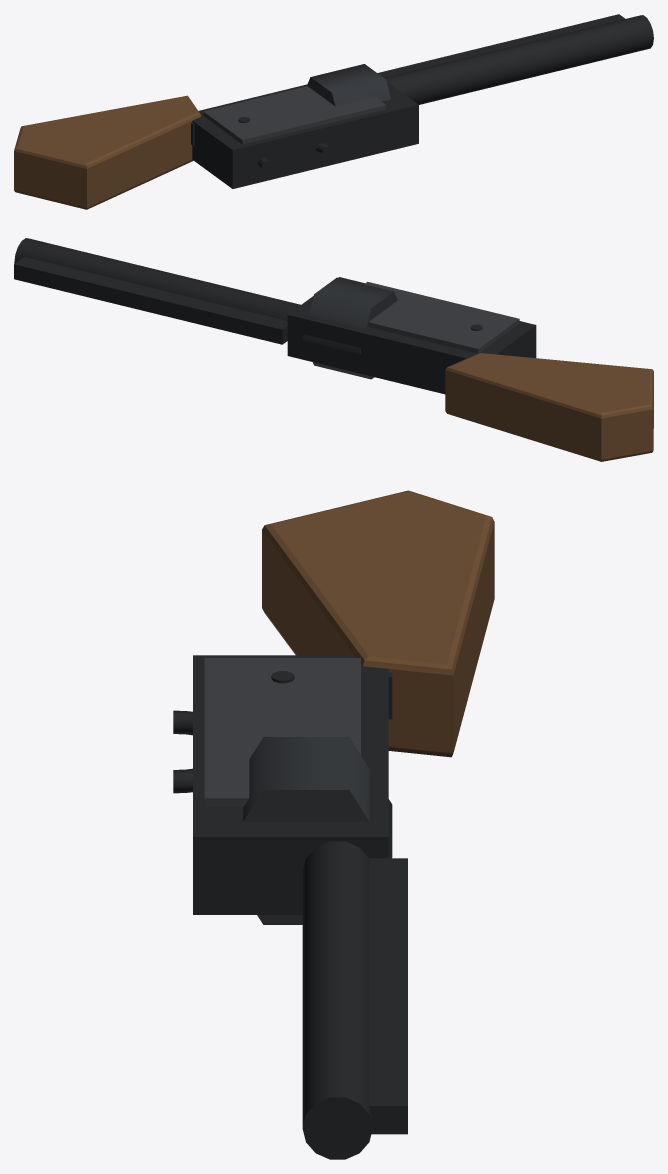
The model's file is revolver.glb.
3 renders of one model, top to bottom at view 1: azimuth 30°, elevation 25°; view 2: azimuth 150°, elevation 25°; view 3: azimuth 270°, elevation 25°, orthographic. The views are drawn at different scales.
Parts seen in each view (by area): view 1: iron, handleWood, cover, drumIron; view 2: iron, handleWood, cover, drumIron; view 3: iron, handleWood, cover, drumIron.
Part boxes in pixels (x1=…): iron: x1=191, y1=14, x2=653, y2=188; handleWood: x1=14, y1=95, x2=201, y2=209; cover: x1=203, y1=86, x2=386, y2=144; drumIron: x1=307, y1=64, x2=390, y2=106; iron: x1=14, y1=238, x2=536, y2=394; handleWood: x1=445, y1=353, x2=653, y2=461; cover: x1=364, y1=281, x2=519, y2=353; drumIron: x1=303, y1=277, x2=397, y2=379; iron: x1=173, y1=655, x2=407, y2=1159; handleWood: x1=262, y1=490, x2=494, y2=757; cover: x1=204, y1=658, x2=360, y2=806; drumIron: x1=243, y1=737, x2=392, y2=924.
Size of the model in its own units: 0.3624 by 0.0381 by 0.0821.
